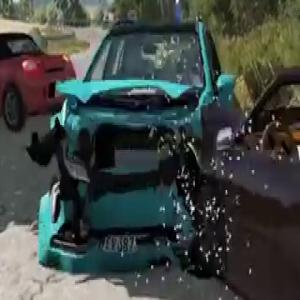significant: (27, 0, 300, 300)
